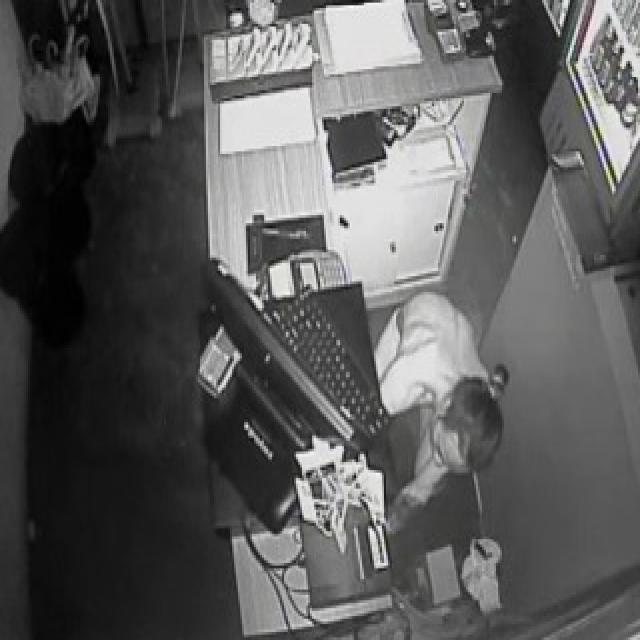thief: (406, 326, 514, 513)
